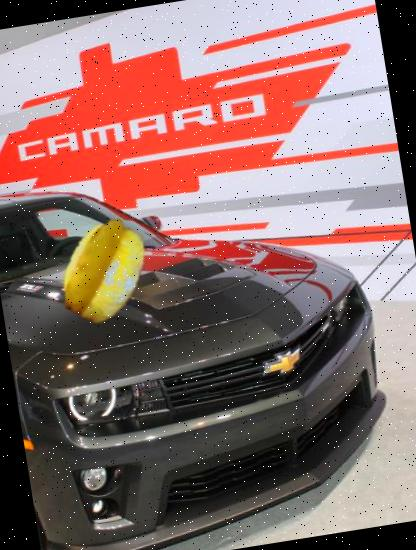Carambula: (46, 210, 166, 330)
